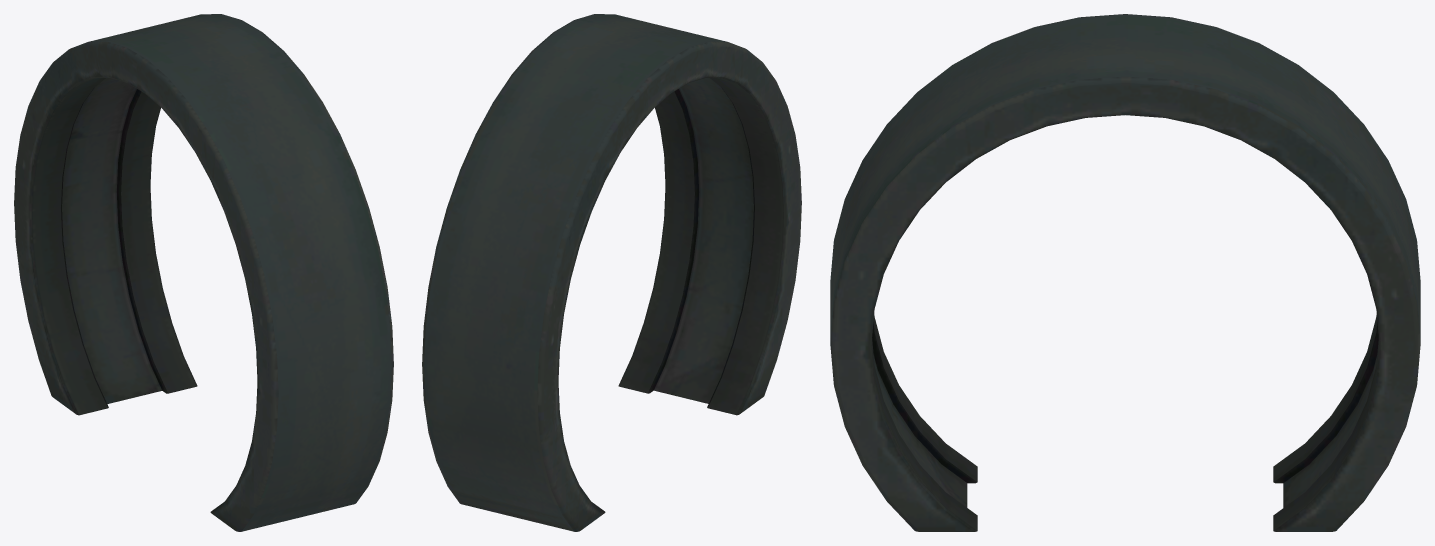
File: door_01_frame_wide_reference.glb
3 views of the same model, side by side, from view 1: azimuth 30°, elevation 25°; view 2: azimuth 150°, elevation 25°; view 3: azimuth 270°, elevation 25° (orthographic). The views are drawn at different scales.
Parts seen in each view (by area): view 1: Body_Door_01_Frame_wide_reference.smd; view 2: Body_Door_01_Frame_wide_reference.smd; view 3: Body_Door_01_Frame_wide_reference.smd.
Part boxes in pixels (bbox=[...]): Body_Door_01_Frame_wide_reference.smd: bbox=[14, 14, 393, 531]; Body_Door_01_Frame_wide_reference.smd: bbox=[422, 14, 801, 531]; Body_Door_01_Frame_wide_reference.smd: bbox=[830, 14, 1420, 531].
Size of the model in its own units: 0.645 by 2.06 by 2.43.
Materials: 1 (1 with a texture image).
